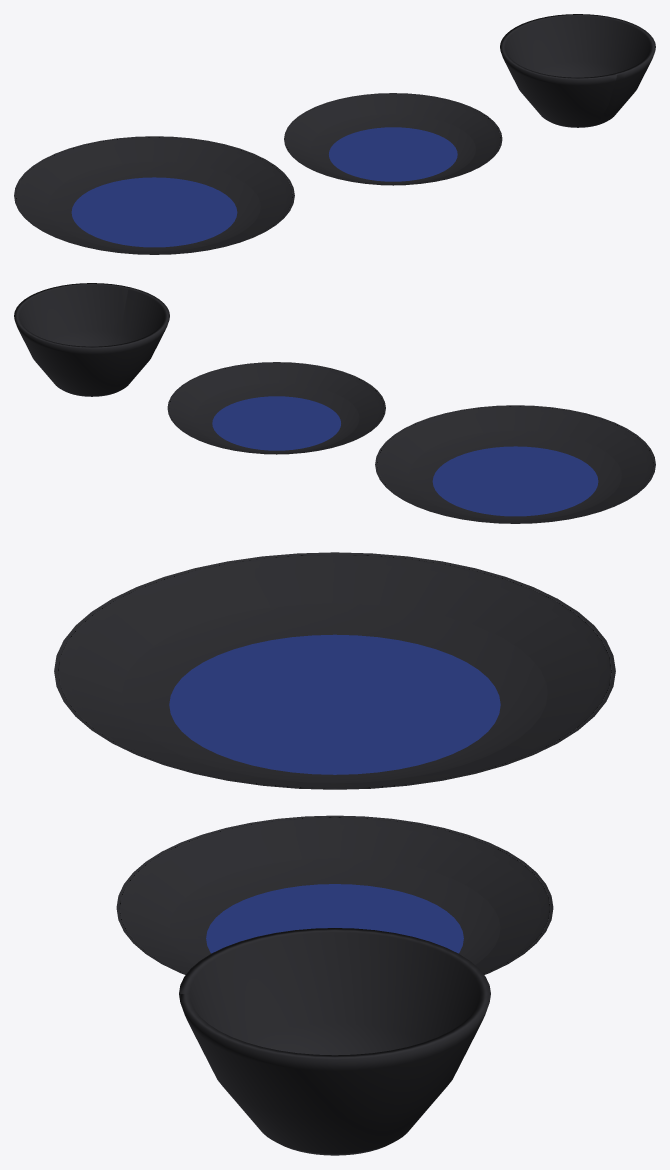
3 renders of one model, top to bottom at view 1: azimuth 30°, elevation 25°; view 2: azimuth 150°, elevation 25°; view 3: azimuth 270°, elevation 25°, orthographic. The views are drawn at different scales.
Size of the model in its own units: 0.68 by 0.07 by 0.27.
